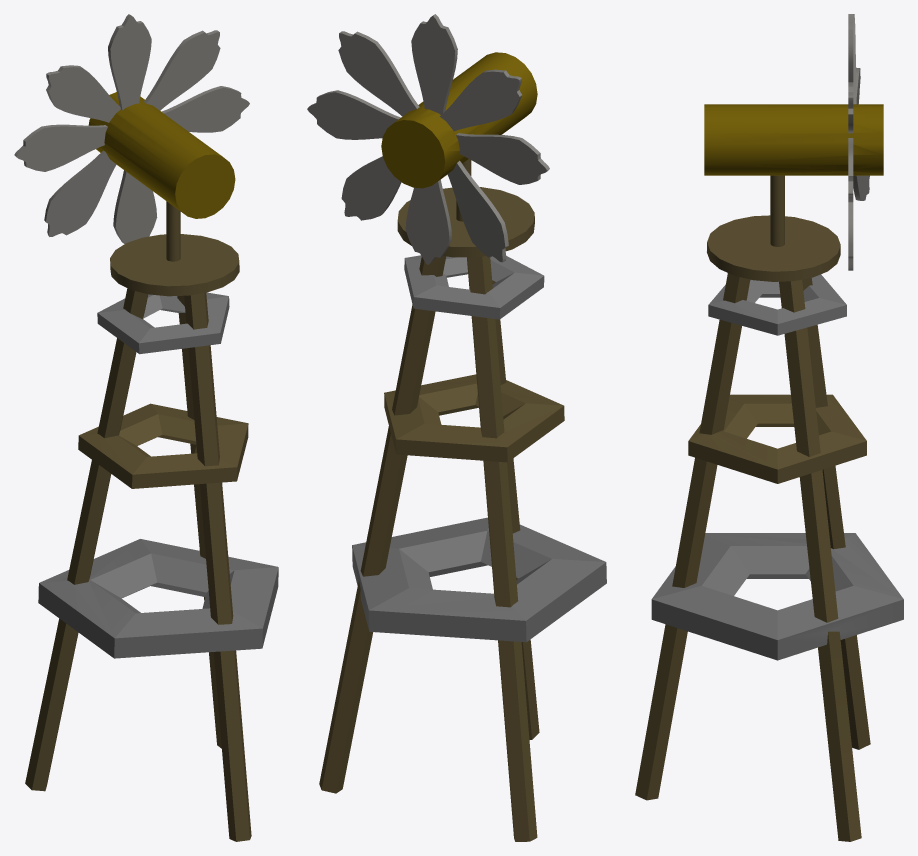
File: Windmill1.fbx
3 views of the same model, side by side, from view 1: azimuth 30°, elevation 25°; view 2: azimuth 150°, elevation 25°; view 3: azimuth 270°, elevation 25° (orthographic). The views are drawn at different scales.
Parts seen in each view (by area): view 1: polySurface1; view 2: polySurface1; view 3: polySurface1.
Part boxes in pixels (x1,y1,x2,y2): polySurface1: (14,14,278,841); polySurface1: (307,14,606,841); polySurface1: (635,14,903,841).
Size of the model in its own units: 40.86 by 128 by 40.18.
